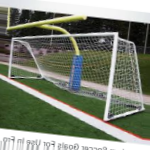goals: (8, 31, 145, 123)
